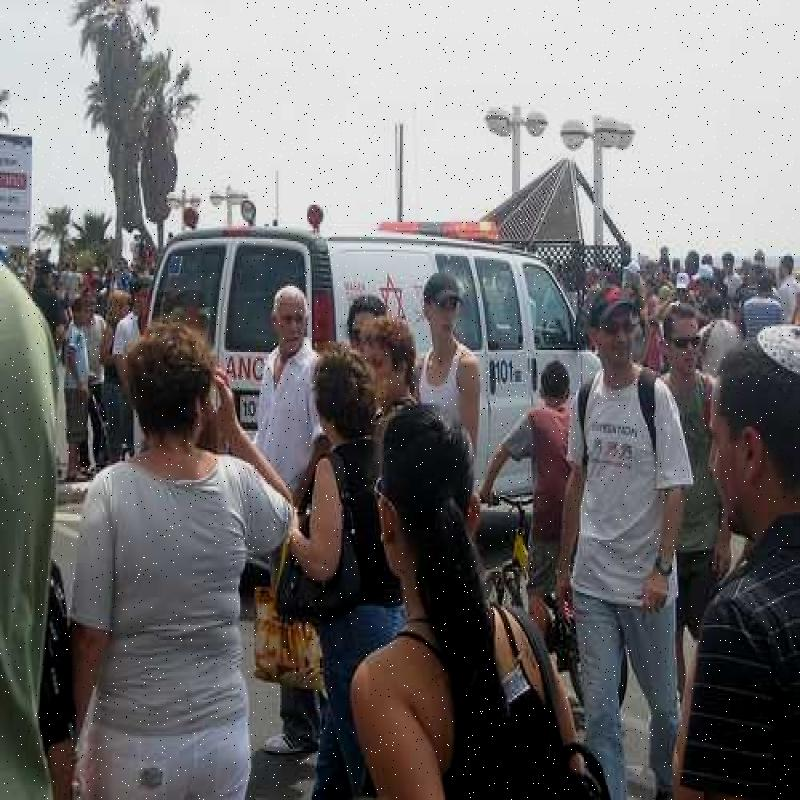AmbulanceSiren: (350, 205, 518, 252)
